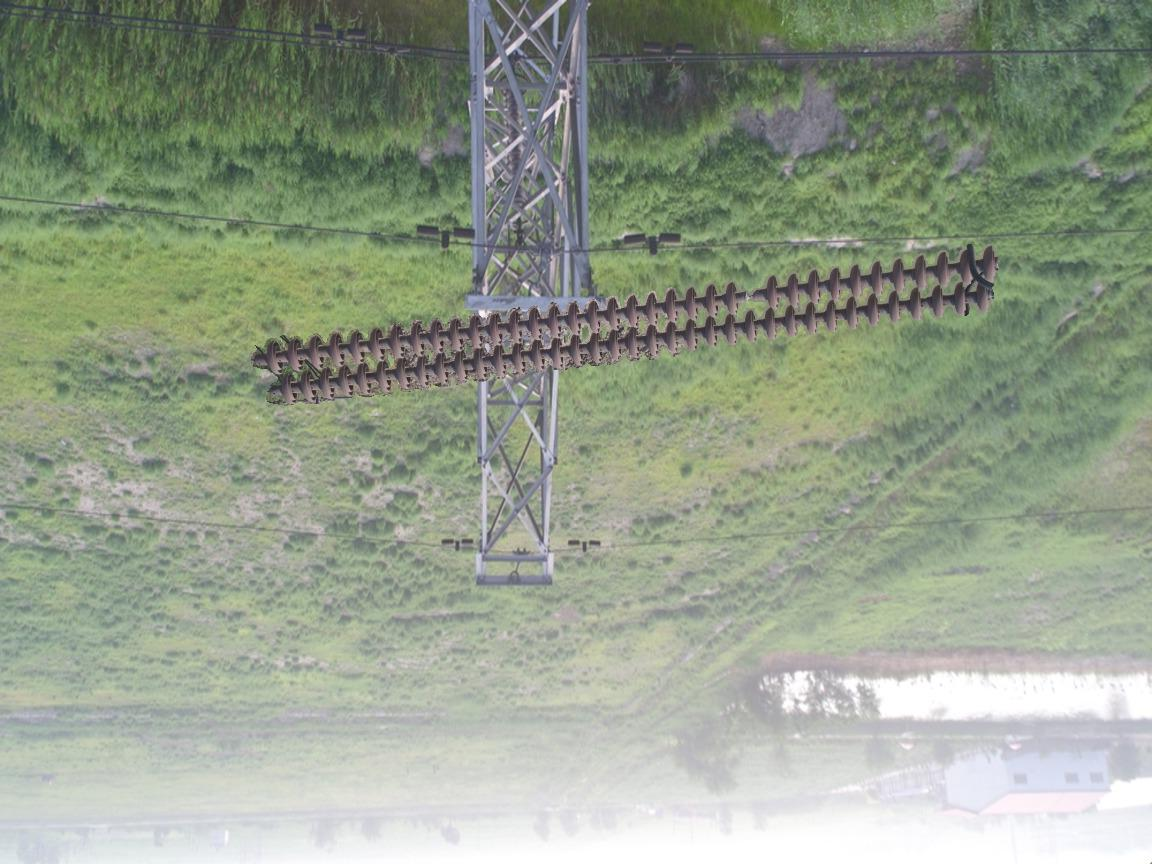insulator: (256, 241, 1003, 407)
insulator_stringdrop: (721, 273, 783, 317)
